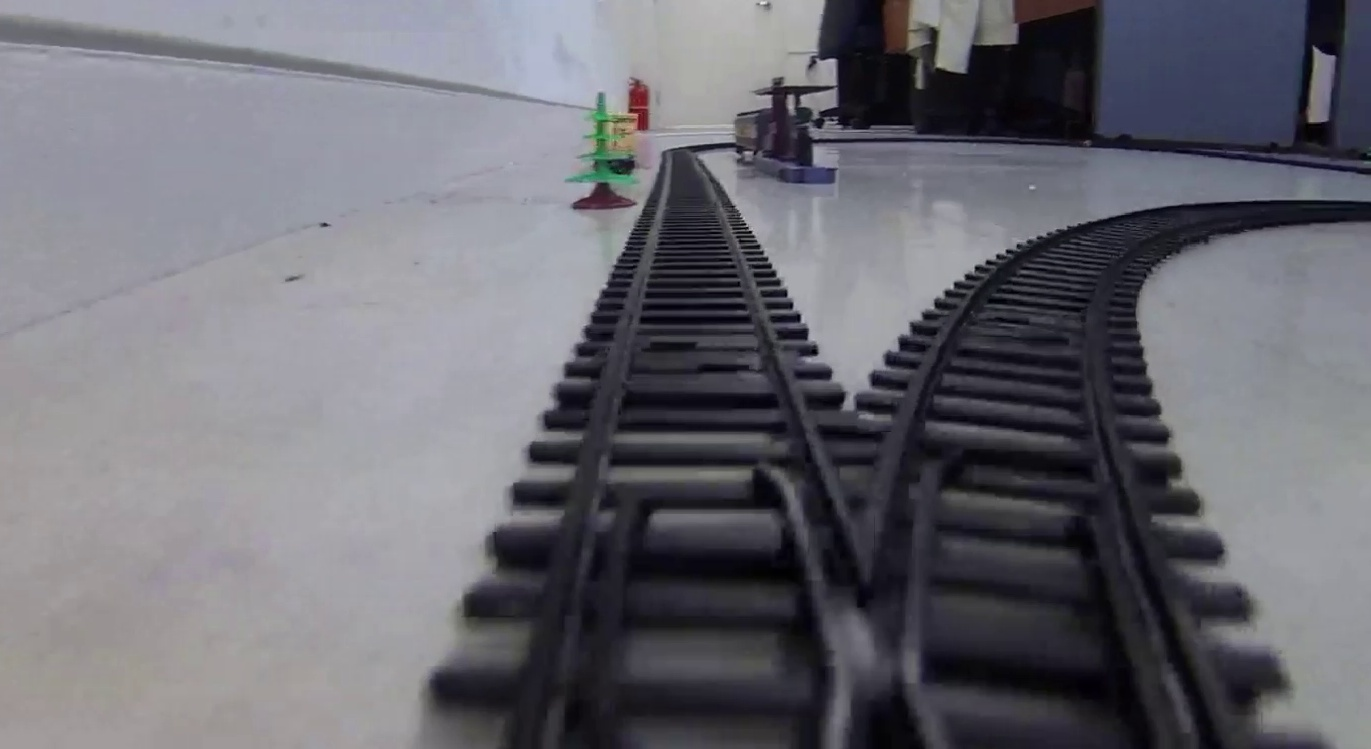tree: (564, 88, 636, 208)
